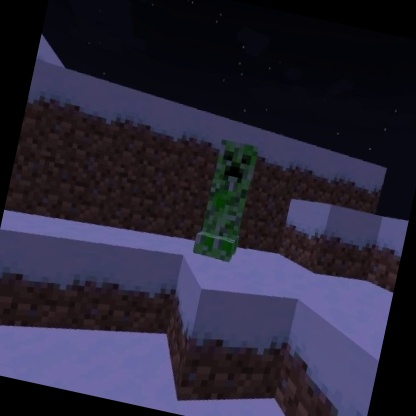creeper: (188, 135, 263, 268)
